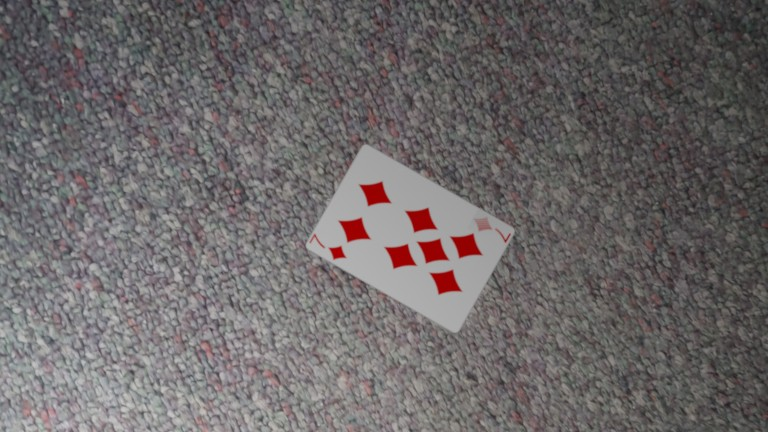7_of_diamonds: (123, 91, 141, 107), (187, 84, 205, 99)
